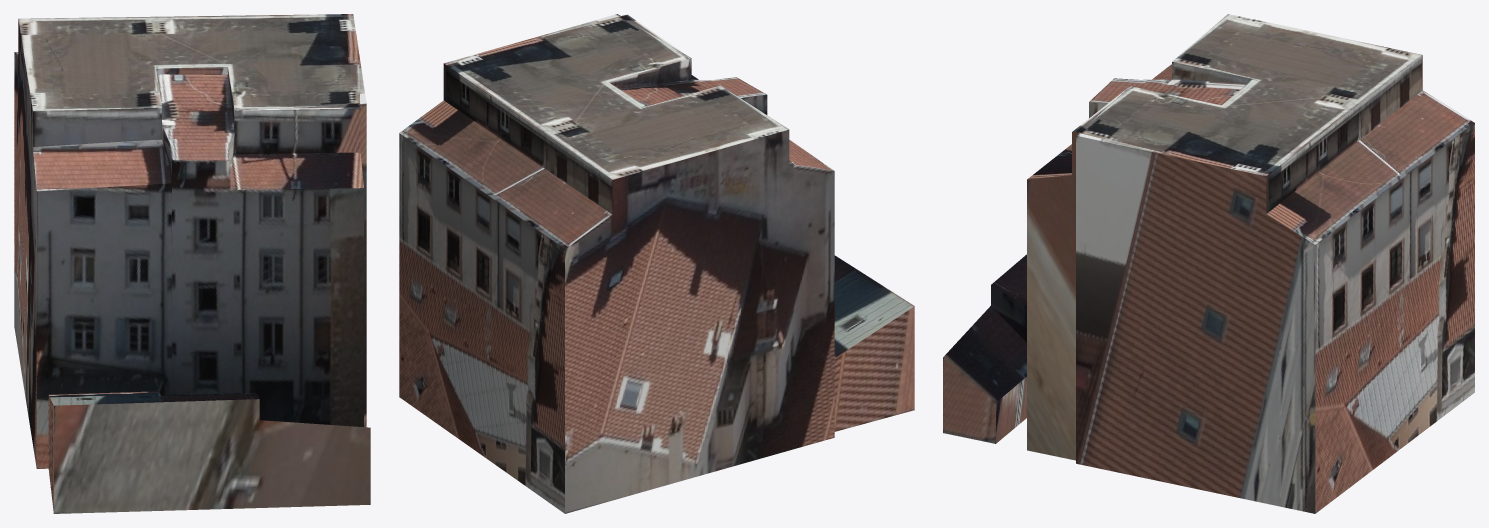
The picture shows the model from 3 angles, left to right: view 1: azimuth 30°, elevation 25°; view 2: azimuth 150°, elevation 25°; view 3: azimuth 270°, elevation 25°; orthographic projection. The views are drawn at different scales.
Parts seen in each view (by area): view 1: Z_UP; view 2: Z_UP; view 3: Z_UP.
Part boxes in pixels (x1,y1,x2,y2): Z_UP: [14, 14, 370, 513]; Z_UP: [399, 14, 914, 513]; Z_UP: [943, 14, 1474, 513].
Bounding box in the file's own units: 25.07 × 19.28 × 28.32.
2 materials, 1 textured.
